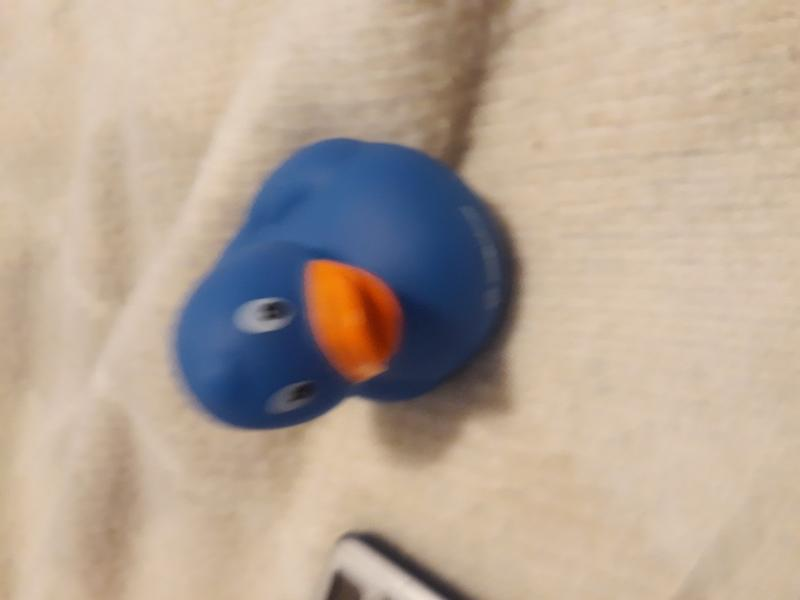plava_patkica: (164, 118, 517, 453)
